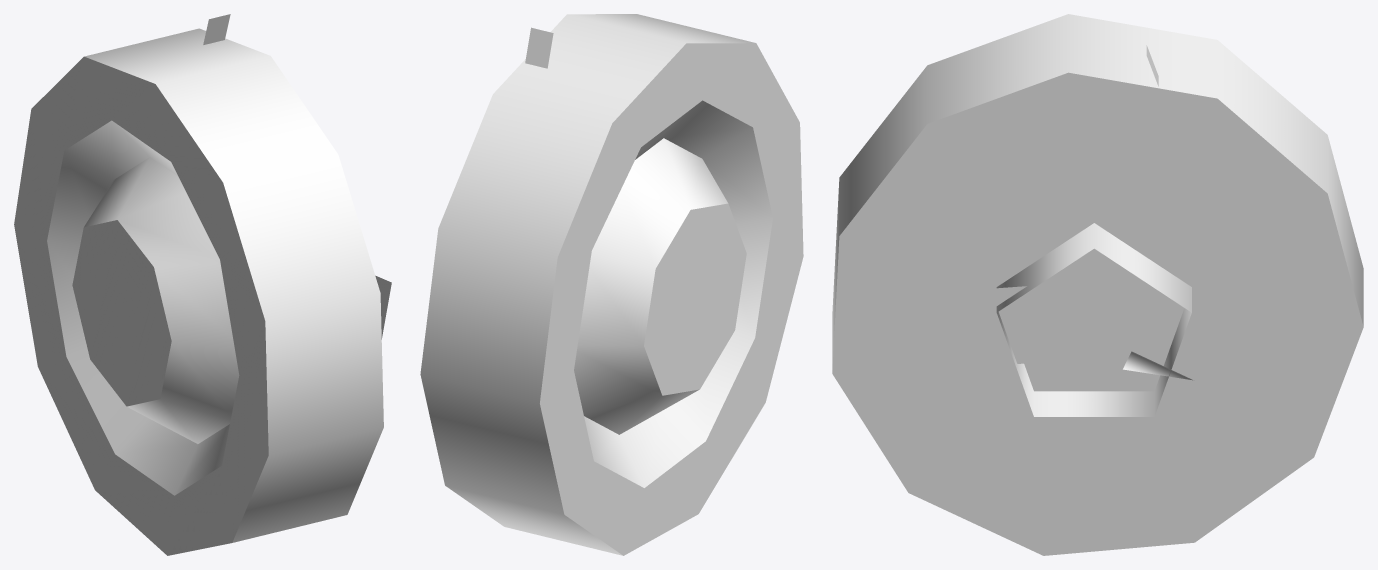
3 renders of one model, left to right at view 1: azimuth 30°, elevation 25°; view 2: azimuth 150°, elevation 25°; view 3: azimuth 270°, elevation 25°, orthographic. The views are drawn at different scales.
Bounding box in the file's own units: 0.2784 × 0.6816 × 0.6576.
Materials: 1 (1 with a texture image).
